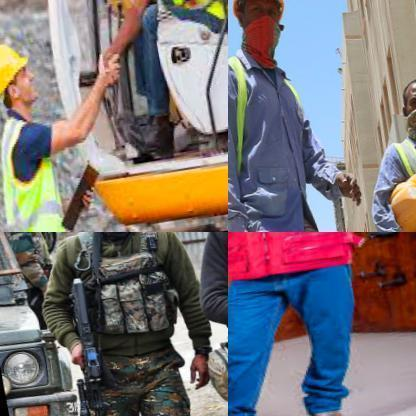vest: (228, 42, 328, 231), (63, 232, 190, 366), (228, 232, 367, 295), (0, 112, 73, 231), (137, 0, 227, 36)
